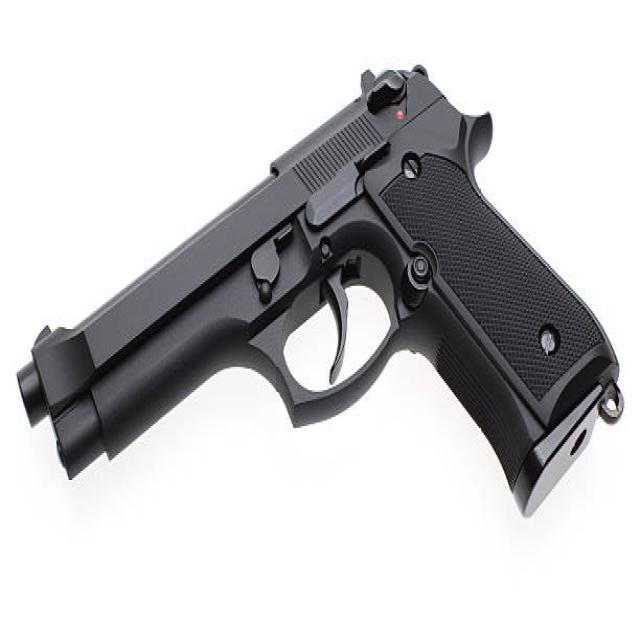pistol: (14, 56, 629, 528)
